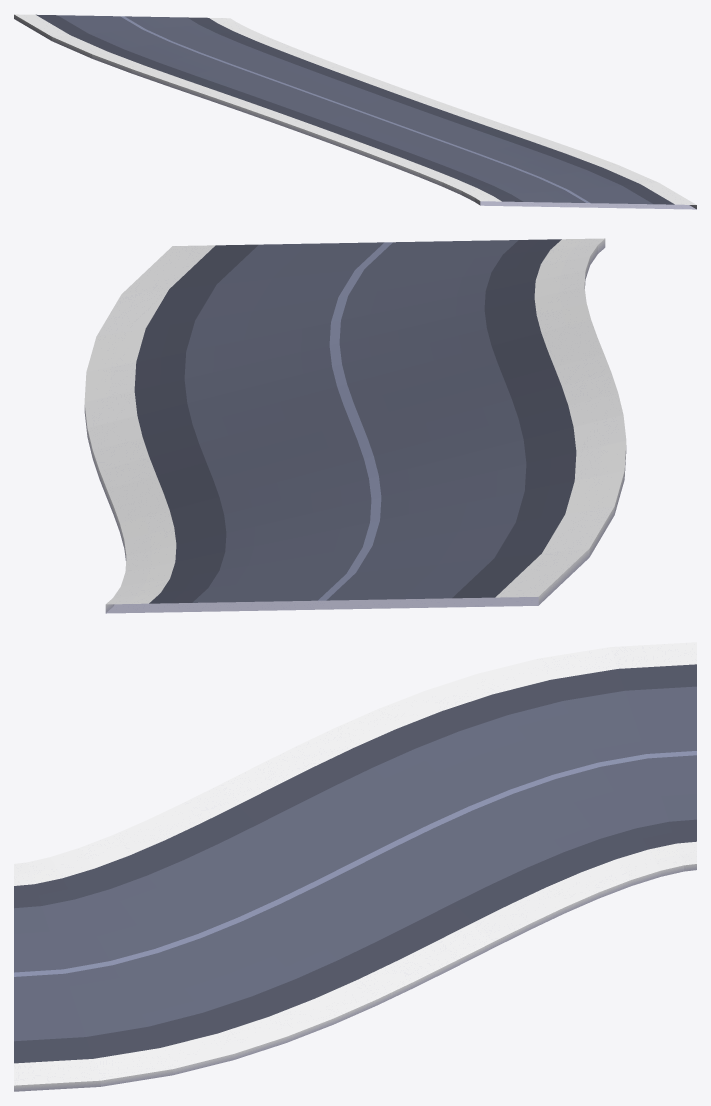
Rendered from road-Chicane-HalfBankedRight-HalfBankedRight-Up1-Left1-Size2.glb.
3 renders of one model, top to bottom at view 1: azimuth 30°, elevation 25°; view 2: azimuth 150°, elevation 25°; view 3: azimuth 270°, elevation 25°, orthographic. The views are drawn at different scales.
Visible parts, largest first — view 1: road-Chicane-HalfBankedRight-HalfBankedRight-Up1-Left1-Size2; view 2: road-Chicane-HalfBankedRight-HalfBankedRight-Up1-Left1-Size2; view 3: road-Chicane-HalfBankedRight-HalfBankedRight-Up1-Left1-Size2.
Part boxes in pixels (<box>): road-Chicane-HalfBankedRight-HalfBankedRight-Up1-Left1-Size2: <box>14,14,696,209</box>; road-Chicane-HalfBankedRight-HalfBankedRight-Up1-Left1-Size2: <box>84,238,626,613</box>; road-Chicane-HalfBankedRight-HalfBankedRight-Up1-Left1-Size2: <box>14,642,696,1091</box>.
Size of the model in its own units: 2 by 0.52 by 2.
1 material, 1 textured.
